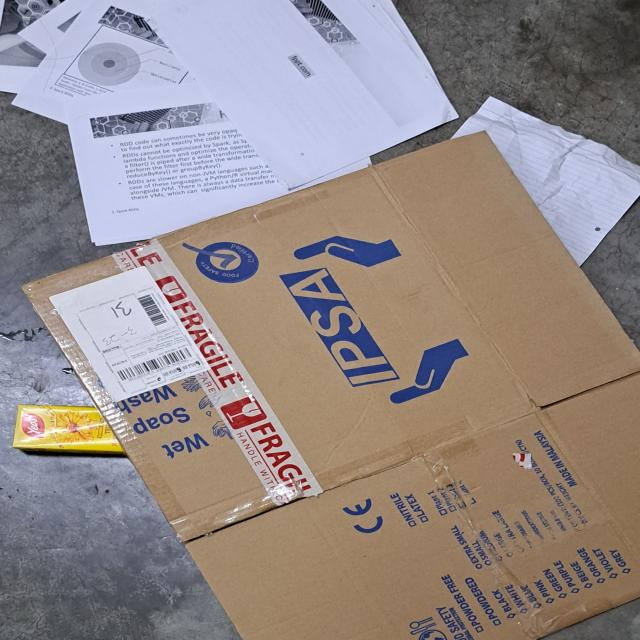cardboard: (17, 130, 640, 640)
drink carton: (12, 404, 126, 457)
paper: (0, 0, 461, 248), (452, 95, 640, 272)
